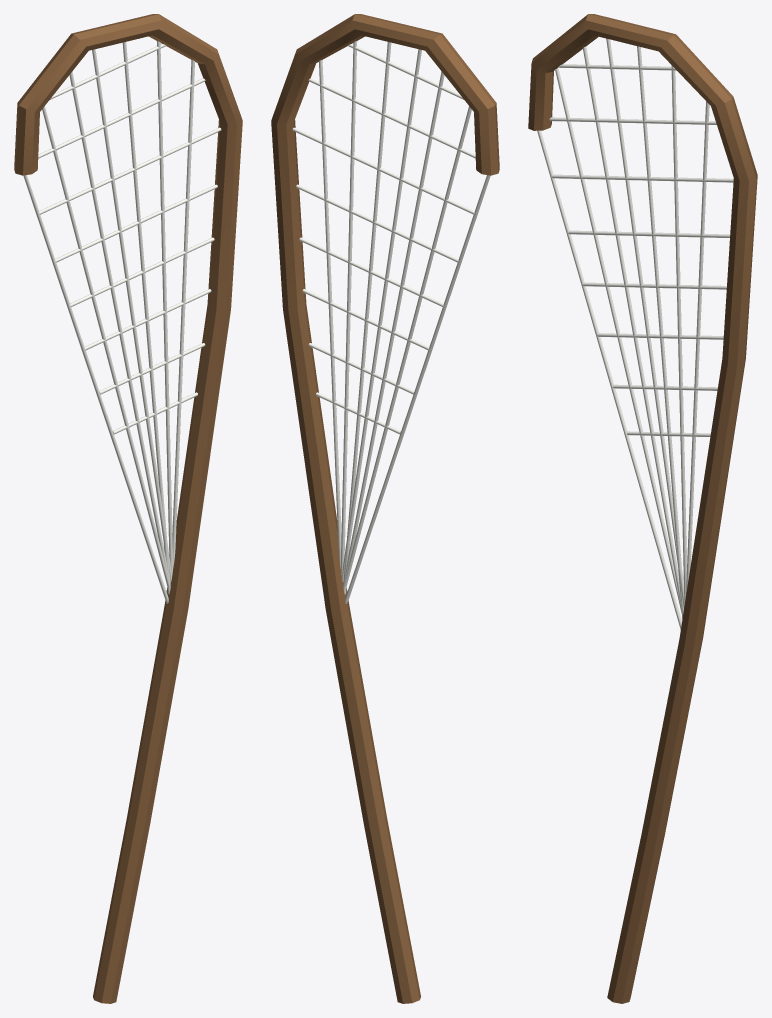
File: preLacrosseStick.gltf
The picture shows the model from 3 angles, left to right: view 1: azimuth 30°, elevation 25°; view 2: azimuth 150°, elevation 25°; view 3: azimuth 330°, elevation 25°; orthographic projection.
Parts seen in each view (by area): view 1: preLacrosseStick; view 2: preLacrosseStick; view 3: preLacrosseStick.
Part boxes in pixels (left/top/right/bottom): preLacrosseStick: left=14, top=14, right=242, bottom=1003; preLacrosseStick: left=271, top=14, right=499, bottom=1003; preLacrosseStick: left=528, top=14, right=757, bottom=1003.
Bounding box in the file's own units: 2.84 × 11.7 × 0.2691.
